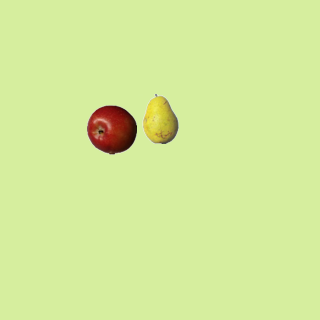Apple Braeburn: (86, 104, 136, 154)
Pear Monster: (135, 93, 185, 143)
